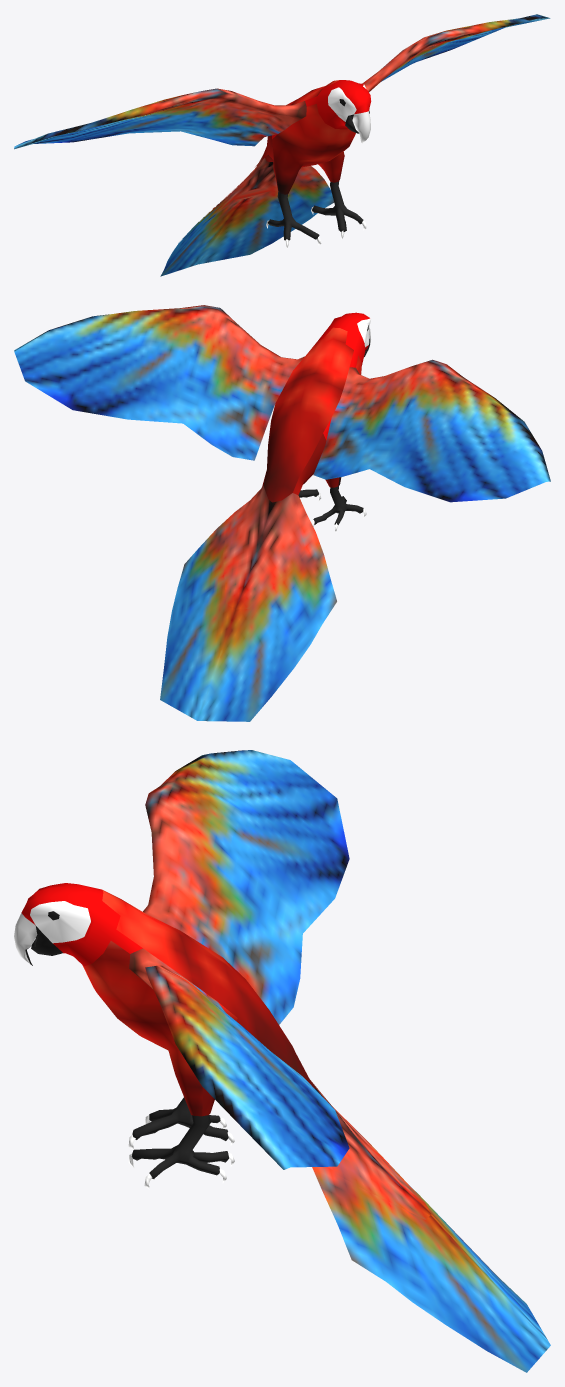
3 renders of one model, top to bottom at view 1: azimuth 30°, elevation 25°; view 2: azimuth 150°, elevation 25°; view 3: azimuth 270°, elevation 25°, orthographic. The views are drawn at different scales.
Parts seen in each view (by area): view 1: Macaw02; view 2: Macaw02; view 3: Macaw02.
Part boxes in pixels (left/top/right/bottom): Macaw02: left=14, top=14, right=550, bottom=276; Macaw02: left=14, top=305, right=550, bottom=721; Macaw02: left=14, top=750, right=550, bottom=1372.
Size of what is drawn, in the model's own units: 1.49 by 0.7802 by 0.824.
1 material, 1 textured.
